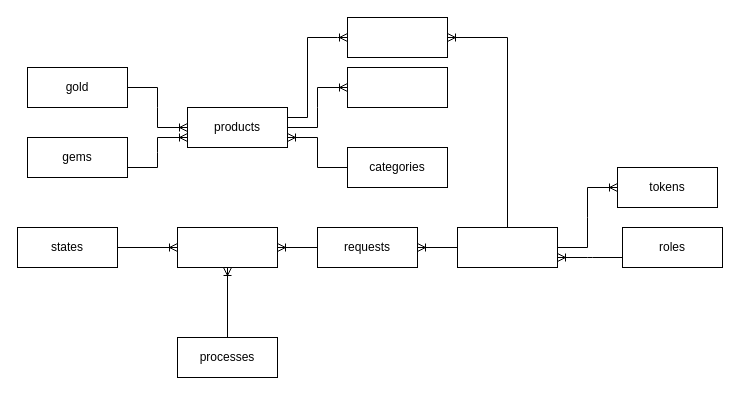
The diagram is 740 pixels wide and 395 high, and some of its shapes have lost their labels. The centre of each missing label's shape, as x and y in pixels:
"orders" belongs at point 227,247.
"product_data" belongs at point 397,87.
"users" belongs at point 507,247.
"warranties" belongs at point 397,37.
